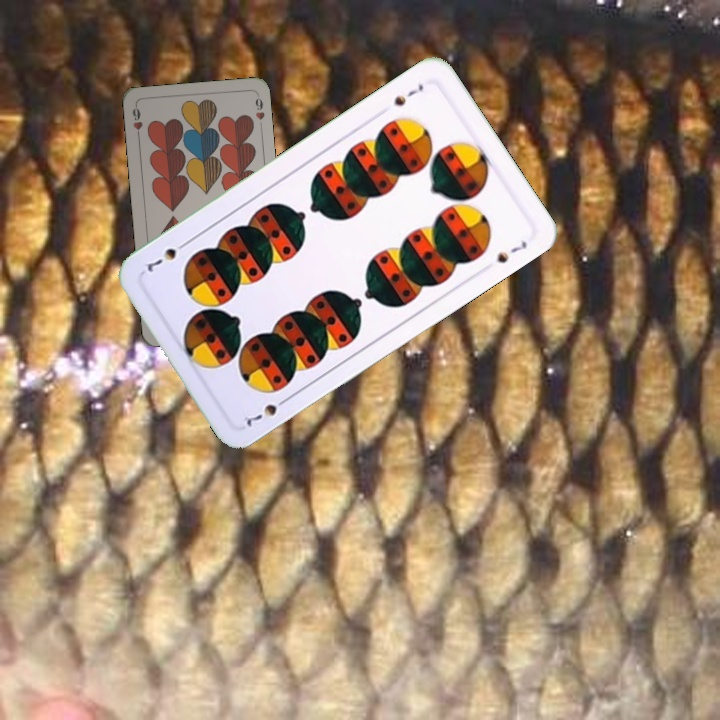H9: (128, 102, 145, 142)
S7: (238, 393, 293, 430), (389, 80, 427, 109)
